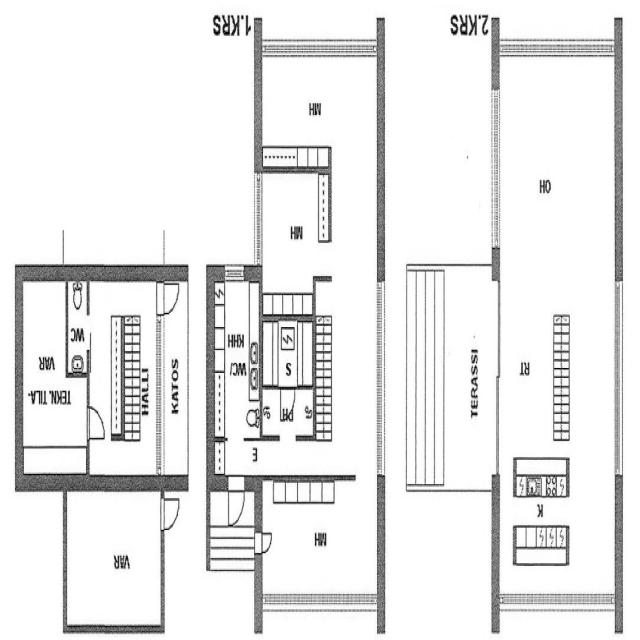door: (226, 479, 246, 528), (87, 402, 107, 441), (162, 276, 180, 316), (162, 493, 180, 532), (280, 382, 298, 420), (259, 526, 274, 554)
window: (608, 267, 628, 491), (490, 371, 503, 478), (222, 258, 246, 282)
zone: (498, 46, 614, 599), (257, 53, 378, 314), (260, 387, 378, 605), (89, 269, 163, 480), (64, 486, 164, 630), (17, 278, 89, 477), (210, 270, 262, 478), (261, 317, 314, 387), (260, 384, 316, 440), (67, 286, 90, 374)
